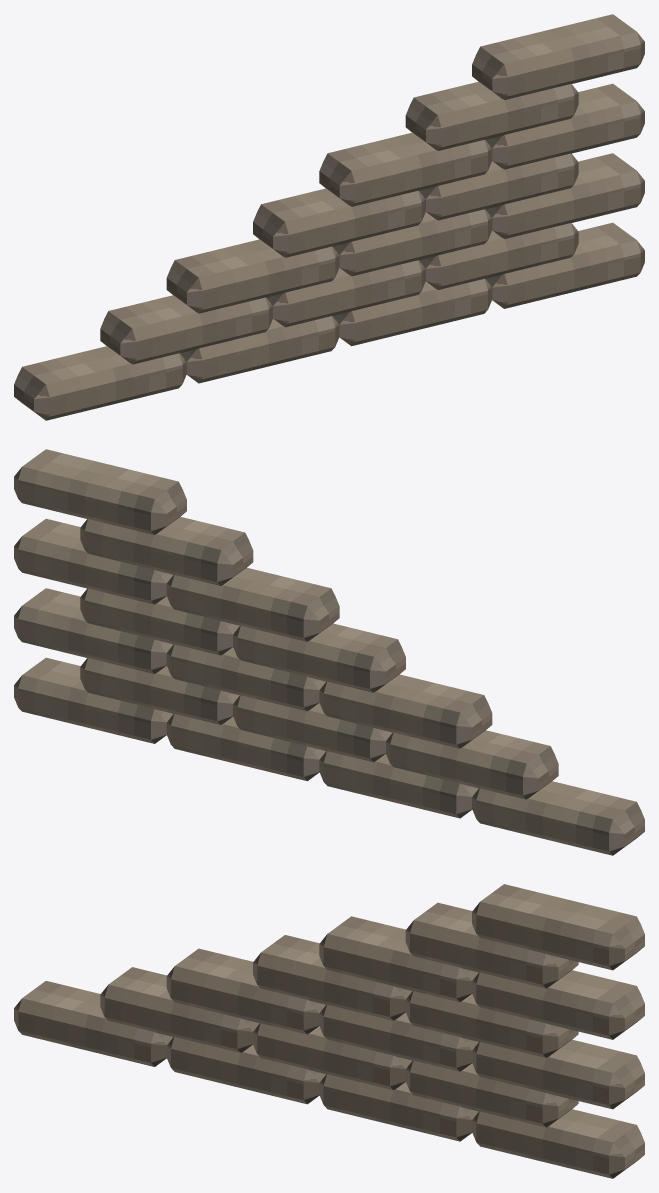
Rendered from sandbag_wall_end.gltf.
3 views of the same model, one above another, from view 1: azimuth 30°, elevation 25°; view 2: azimuth 150°, elevation 25°; view 3: azimuth 330°, elevation 25° (orthographic).
Visible parts, largest first — view 1: sandbag; view 2: sandbag; view 3: sandbag.
Boxes of the visible parts, left/top/right/bottom form: sandbag: left=14, top=14, right=644, bottom=420; sandbag: left=14, top=449, right=644, bottom=855; sandbag: left=14, top=884, right=644, bottom=1178.
Size of the model in its own units: 2.3 by 0.8813 by 0.2062.
Materials: 1 (1 with a texture image).
